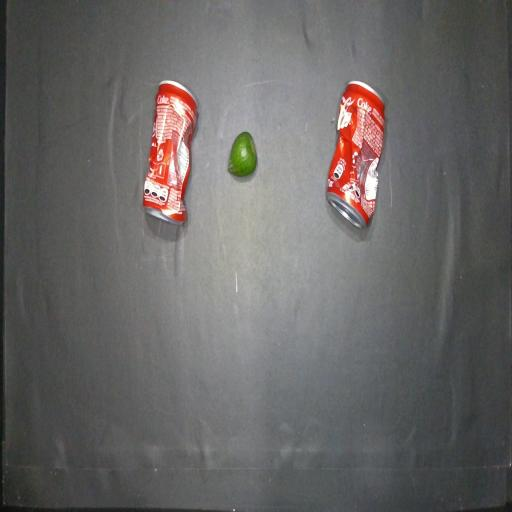higo: (228, 132, 257, 176)
lata_defectuoso: (326, 81, 385, 228), (143, 81, 197, 224)
